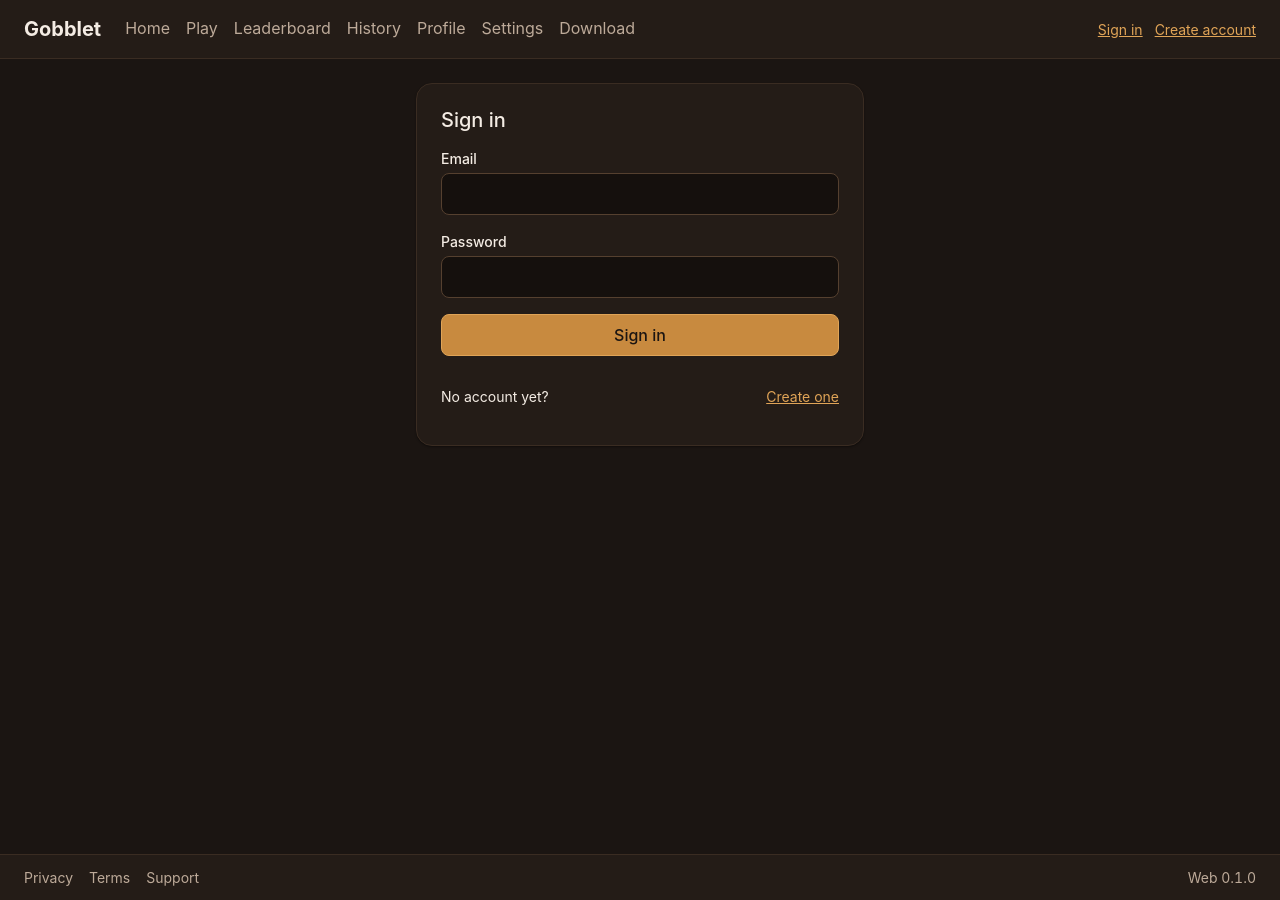
Scenario: sign in › shows the server's reason for a refusal
This screenshot has width=1280, height=900.
In the field labelled "Email": {"x": 640, "y": 194} [441,173,839,215], type "ada@example.com"
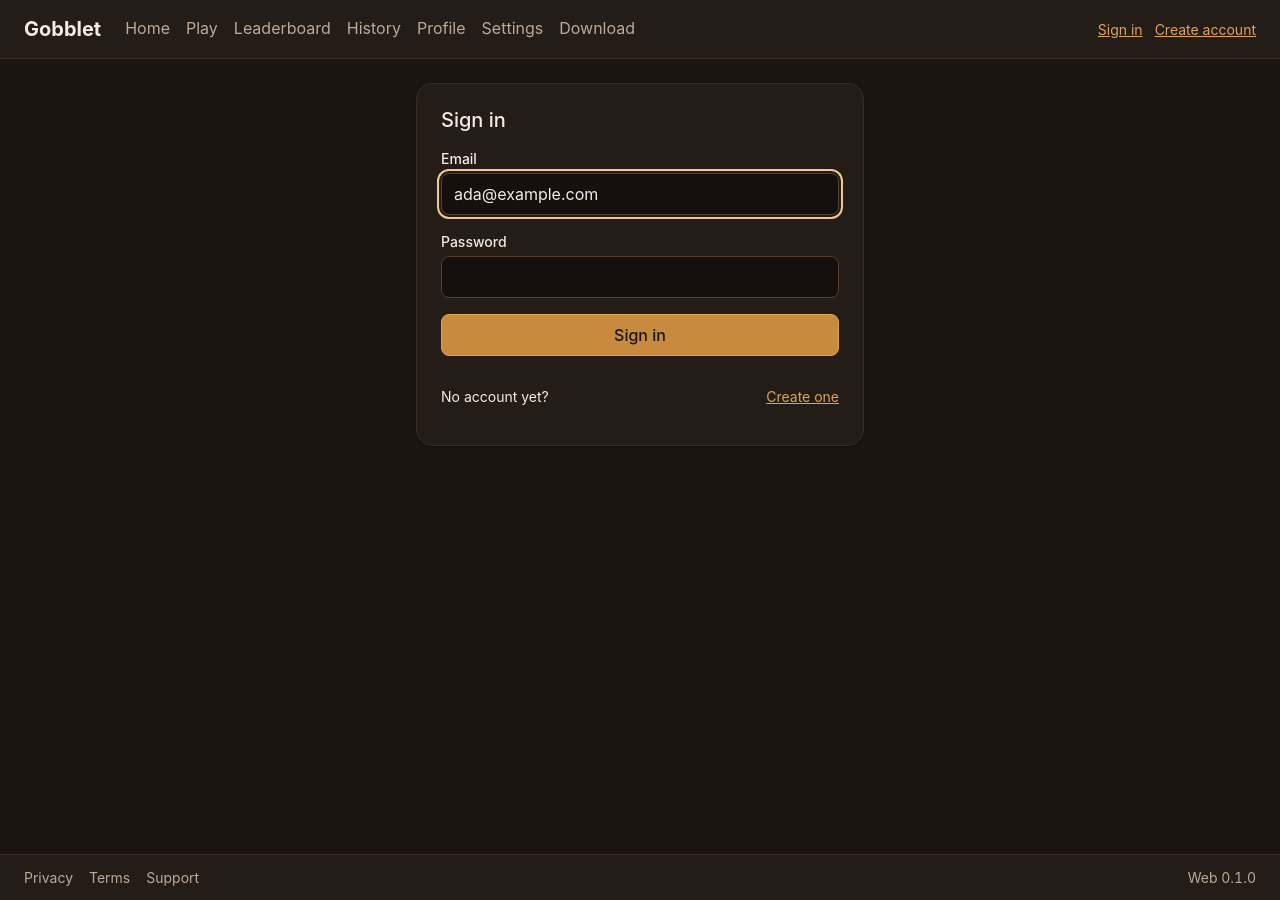
In the password field labelled "Password": {"x": 640, "y": 277} [441,256,839,298], type "correct horse 1"
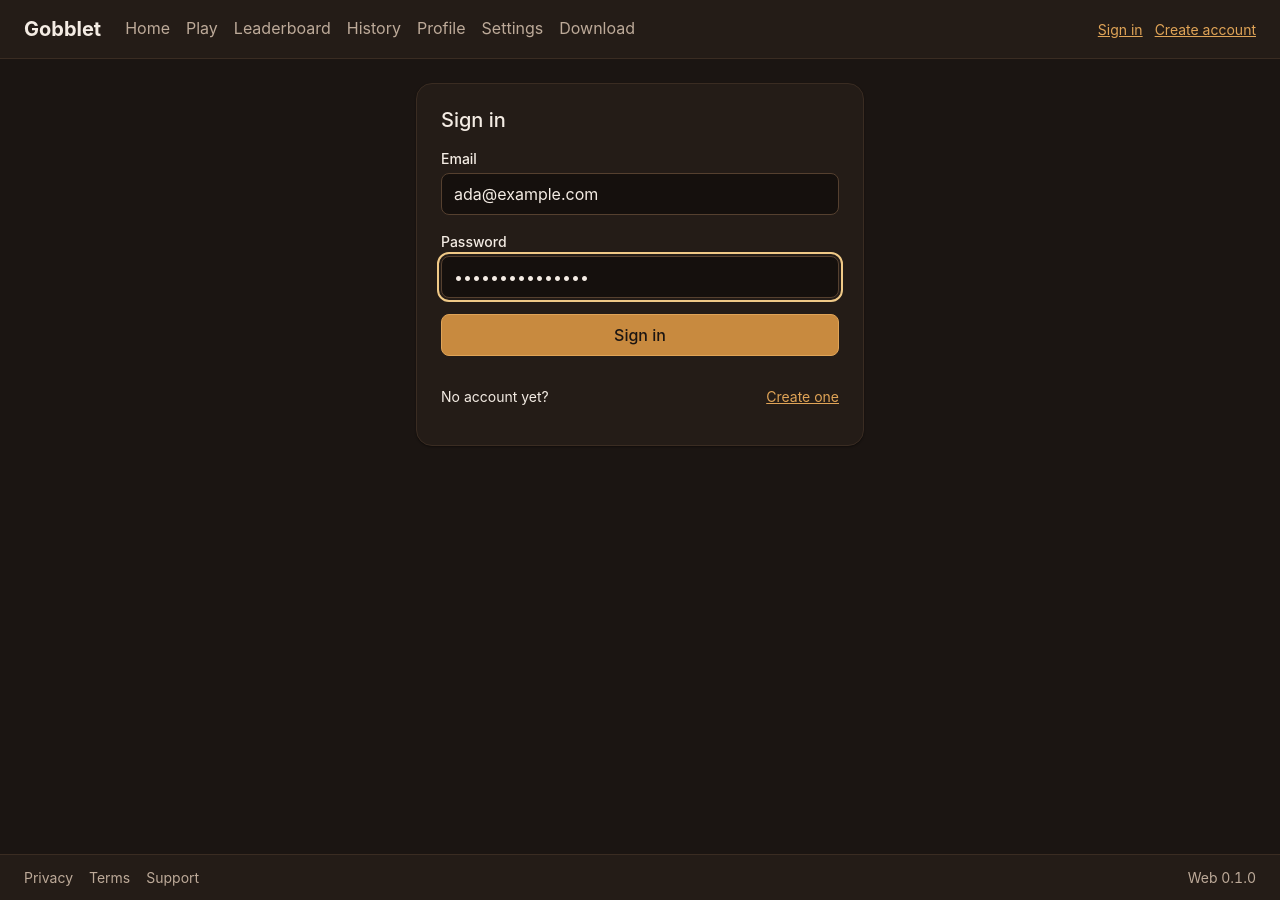
Click the button with test id "sign-in-submit": {"x": 640, "y": 335} [441,314,839,356]
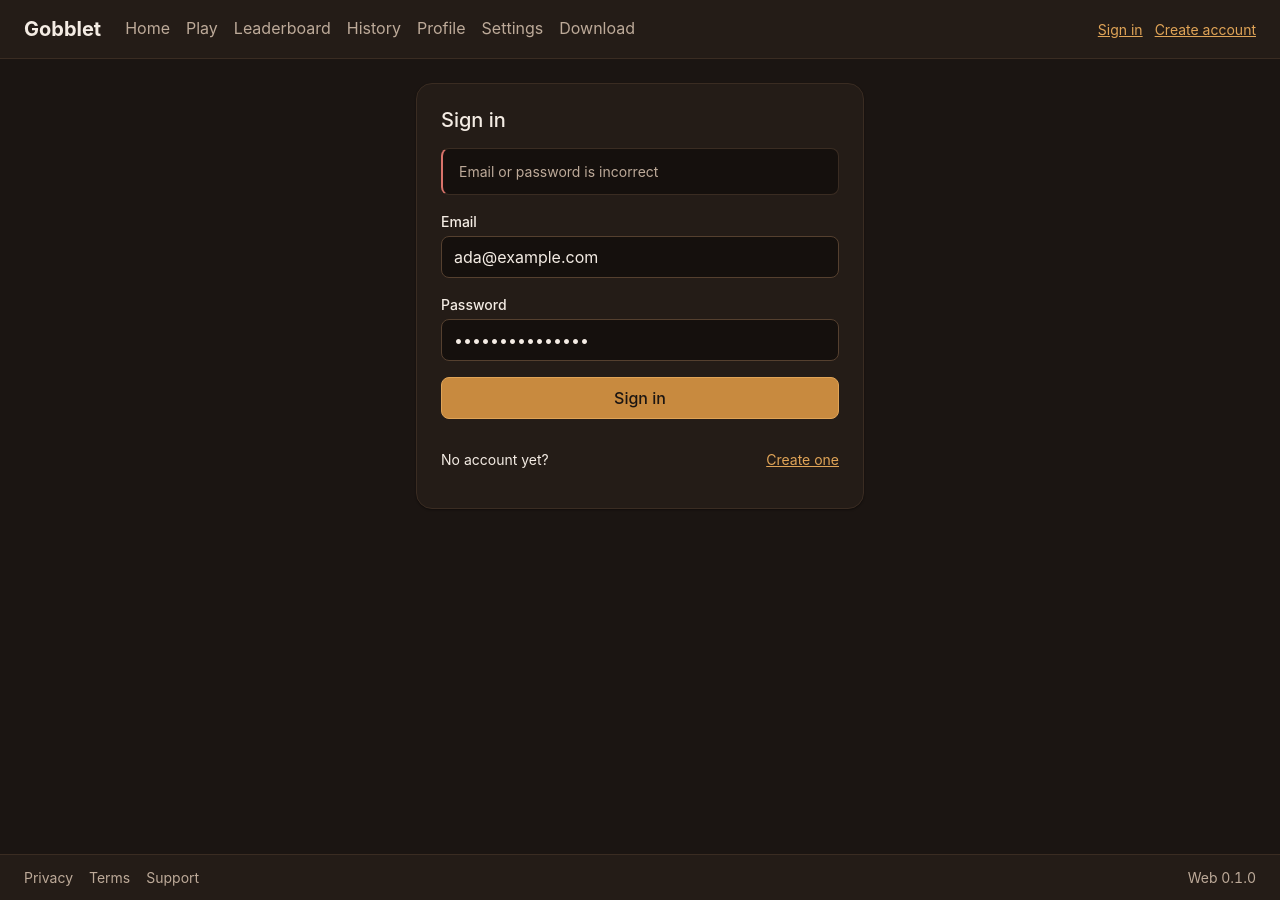
Expected: the message reads "Email or password is incorrect", [459,163,658,180]
